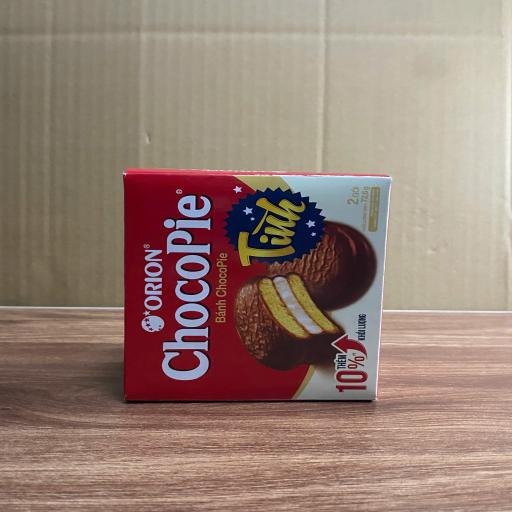chocopie: (123, 173, 385, 403)
